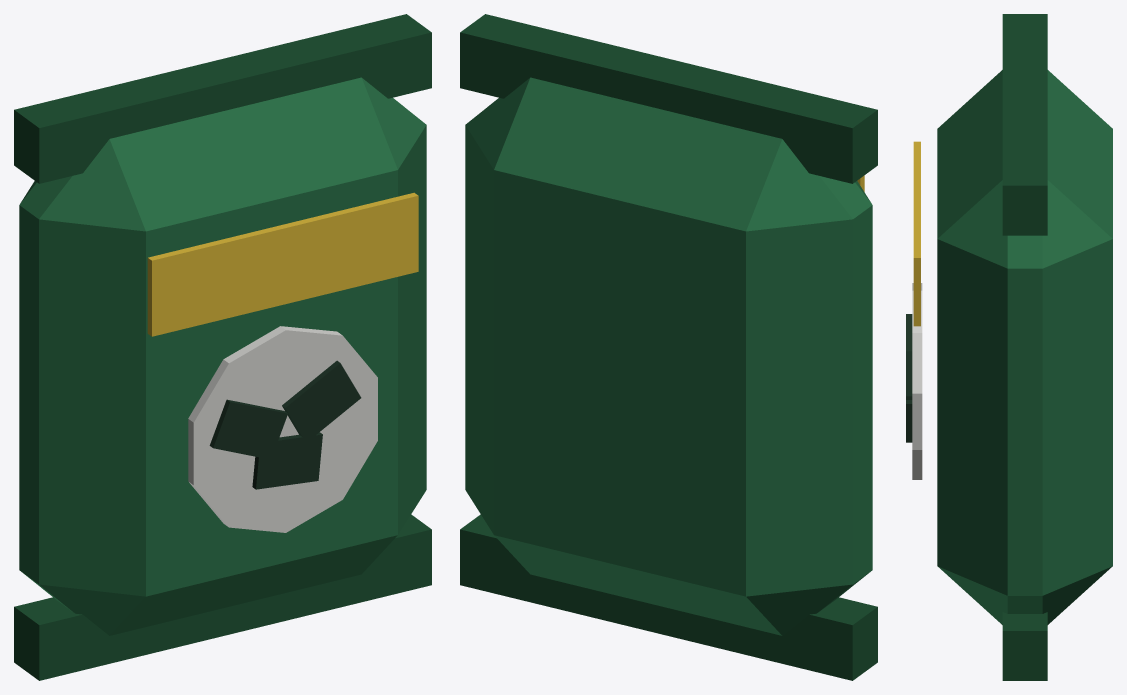
File: hh_snack_rong.glb
3 renders of one model, left to right at view 1: azimuth 30°, elevation 25°; view 2: azimuth 150°, elevation 25°; view 3: azimuth 270°, elevation 25°, orthographic. The views are drawn at different scales.
Visible parts, largest first — view 1: hh_snack_rong; view 2: hh_snack_rong; view 3: hh_snack_rong.
Boxes of the visible parts, box(x1,y1,x2,y2) form: hh_snack_rong: box(14, 14, 431, 680); hh_snack_rong: box(460, 14, 877, 680); hh_snack_rong: box(906, 14, 1112, 680).
Size of the model in its own units: 0.162 by 0.218 by 0.0825.
